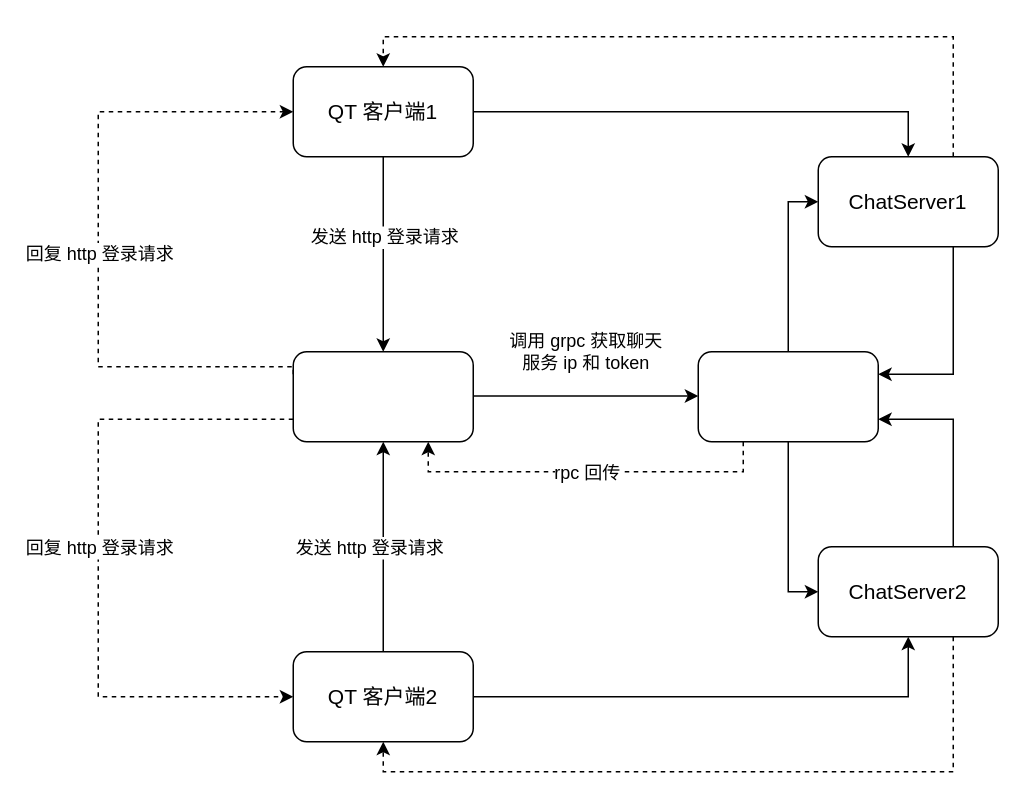
Image size: 1025x810. Some labels were removed from this diagram. Each missing label, with the centre of its shape:
GateServer: [382,396]
StatusServer: [787,396]
